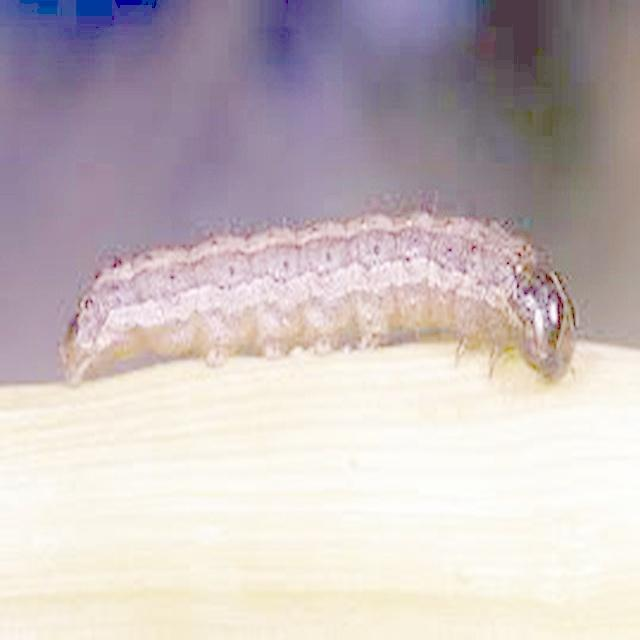Plaga: (55, 196, 592, 396)
